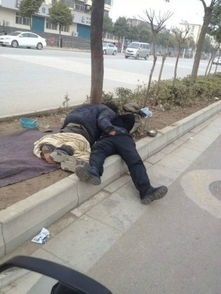falling: (32, 94, 115, 179)
